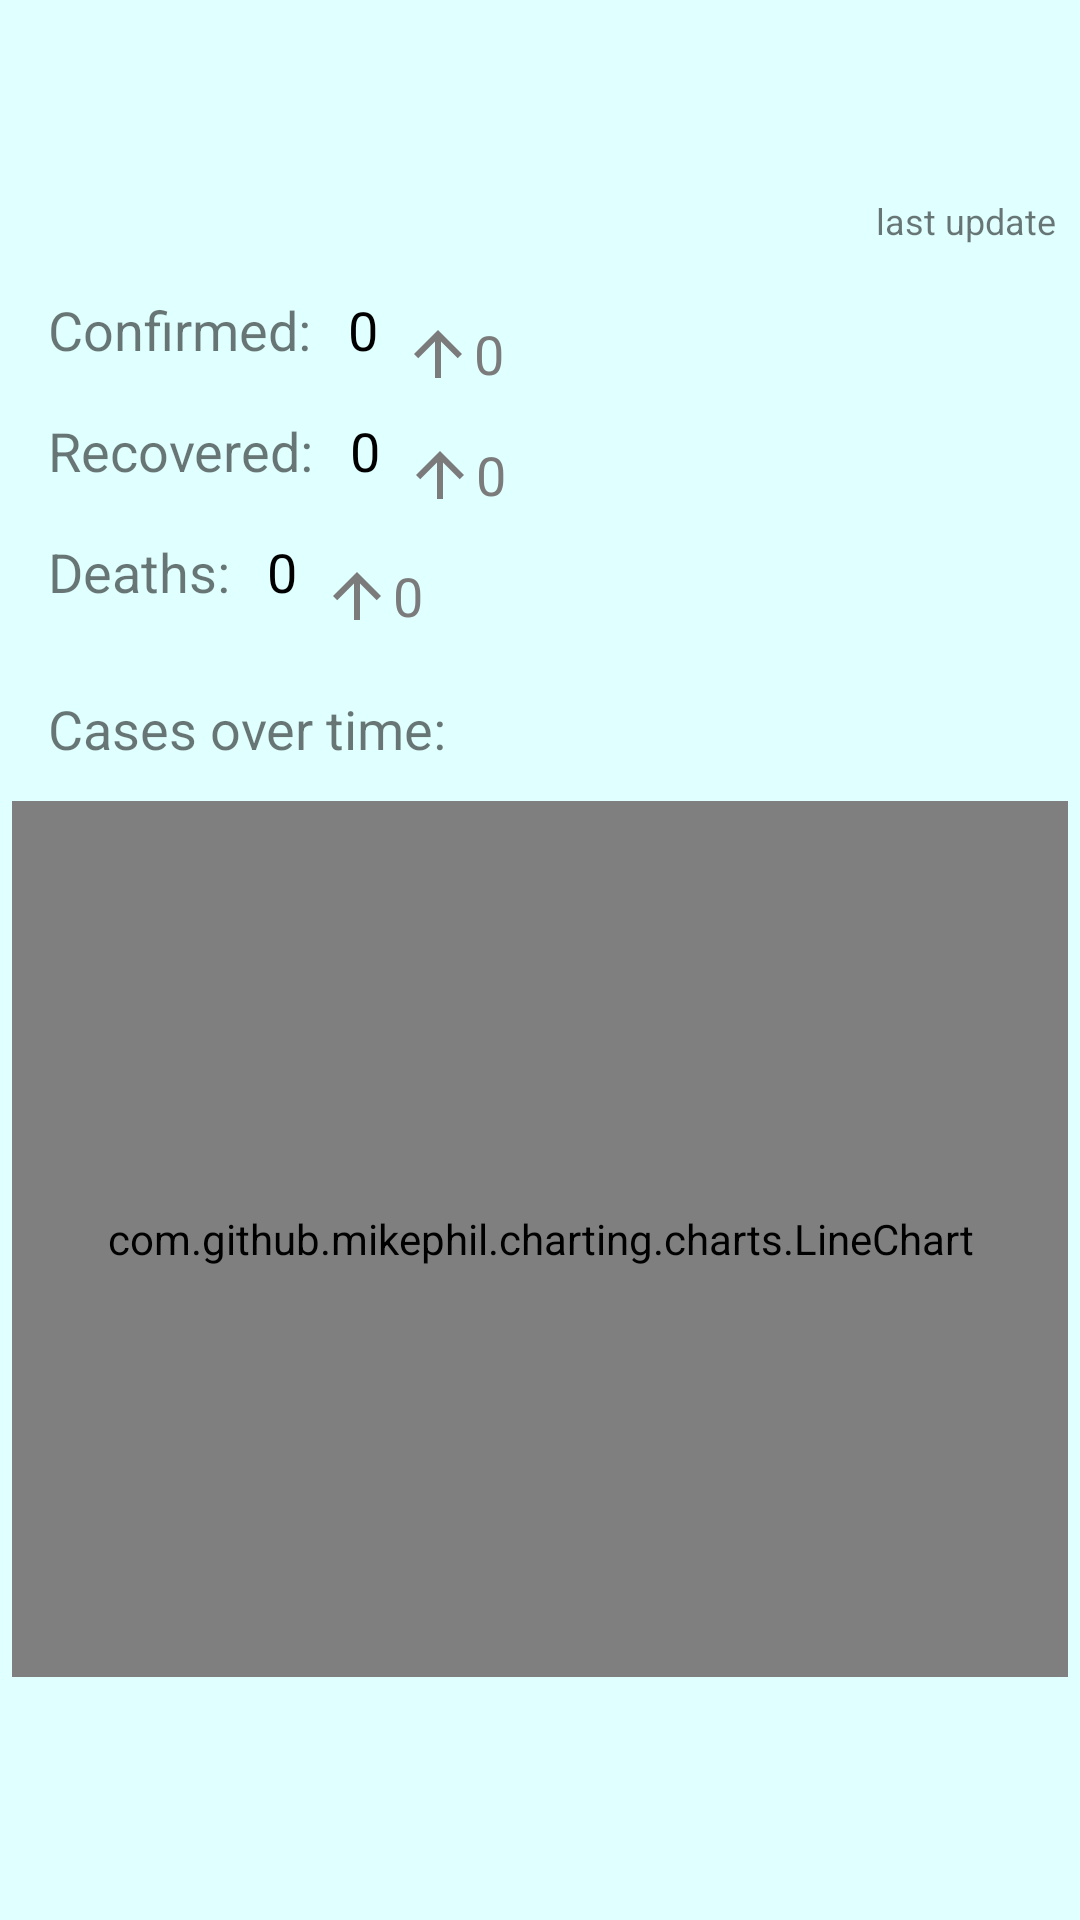

Where icons sit on this 1080px x 1920px app screen, as (x1, y1, x2, y2):
arrow upward: (414, 330, 462, 378), (416, 451, 464, 499), (333, 572, 381, 620)
